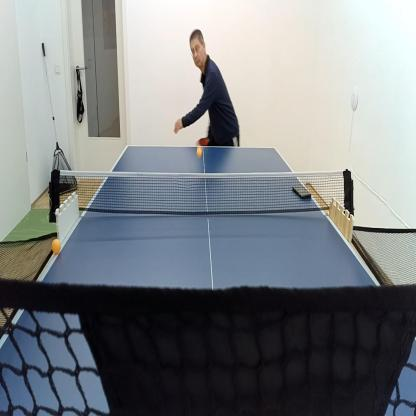Ball: (52, 240, 60, 253), (197, 147, 202, 157)
